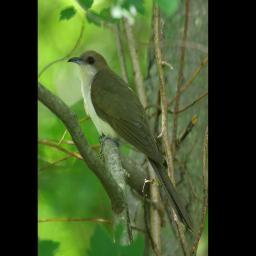Cuckoo: (67, 49, 195, 235)
